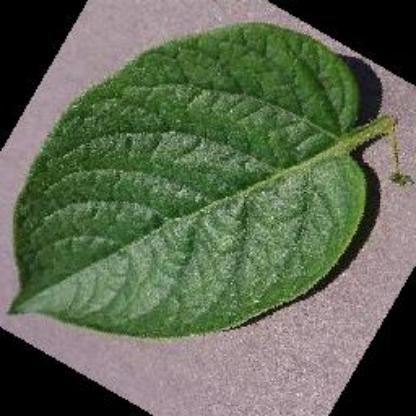Healthy-plant: (6, 22, 412, 344)
